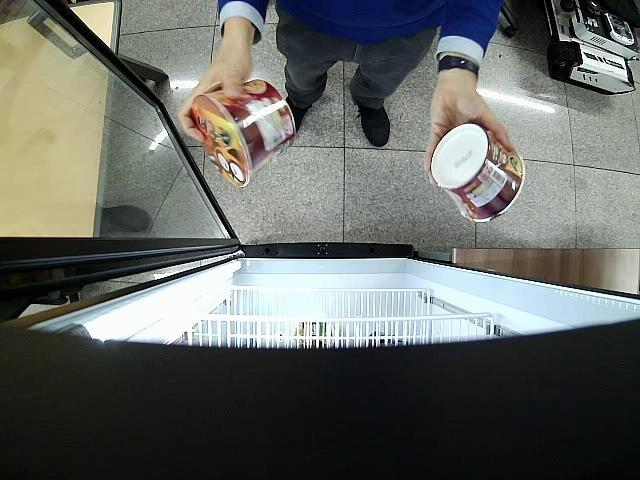05_nuguri_L: (191, 80, 296, 188), (430, 123, 526, 222)
